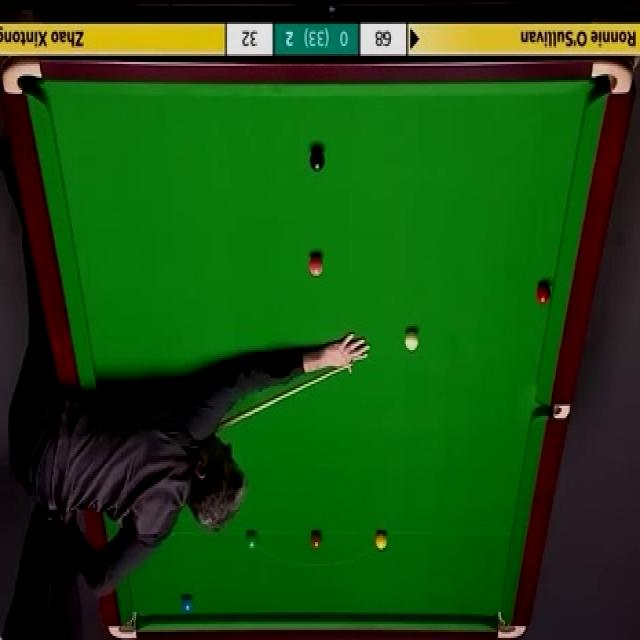black-ball: (309, 147, 326, 173)
blue-ball: (181, 596, 194, 613)
brown-ball: (309, 530, 324, 552)
green-ball: (245, 530, 260, 550)
pink-ball: (309, 254, 325, 277)
red-ball: (535, 282, 553, 307)
white-ball: (403, 326, 422, 354)
yellow-ball: (375, 531, 388, 552)
